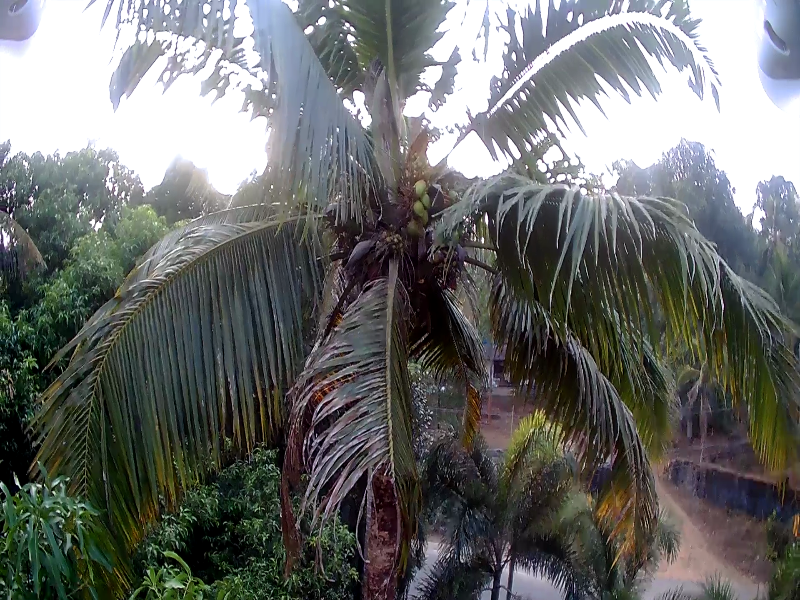coconut: (415, 191, 431, 209), (408, 221, 418, 239), (413, 179, 424, 195), (414, 202, 422, 216)
